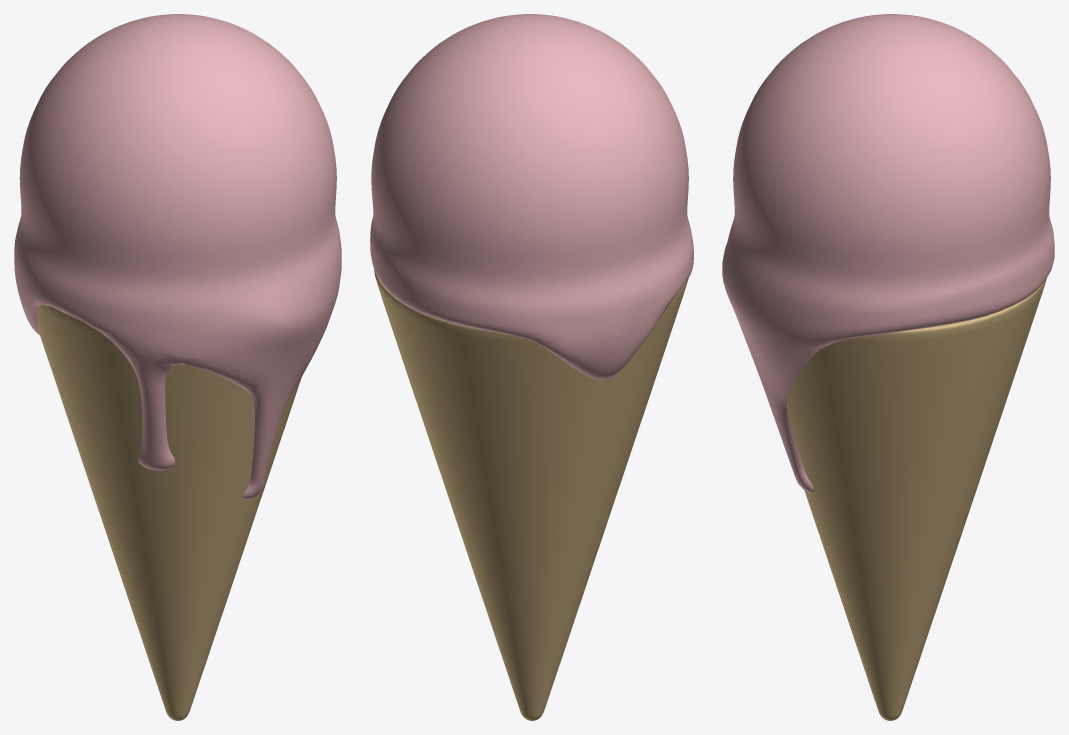
File: IceCream.fbx
3 renders of one model, left to right at view 1: azimuth 30°, elevation 25°; view 2: azimuth 150°, elevation 25°; view 3: azimuth 270°, elevation 25°, orthographic.
Parts seen in each view (by area): view 1: IceCream; view 2: IceCream; view 3: IceCream.
Boxes of the visible parts, box(x1,y1,x2,y2) form: IceCream: box(14, 14, 341, 720); IceCream: box(370, 14, 693, 720); IceCream: box(722, 14, 1054, 720).
Bounding box in the file's own units: 102 × 238 × 104.
